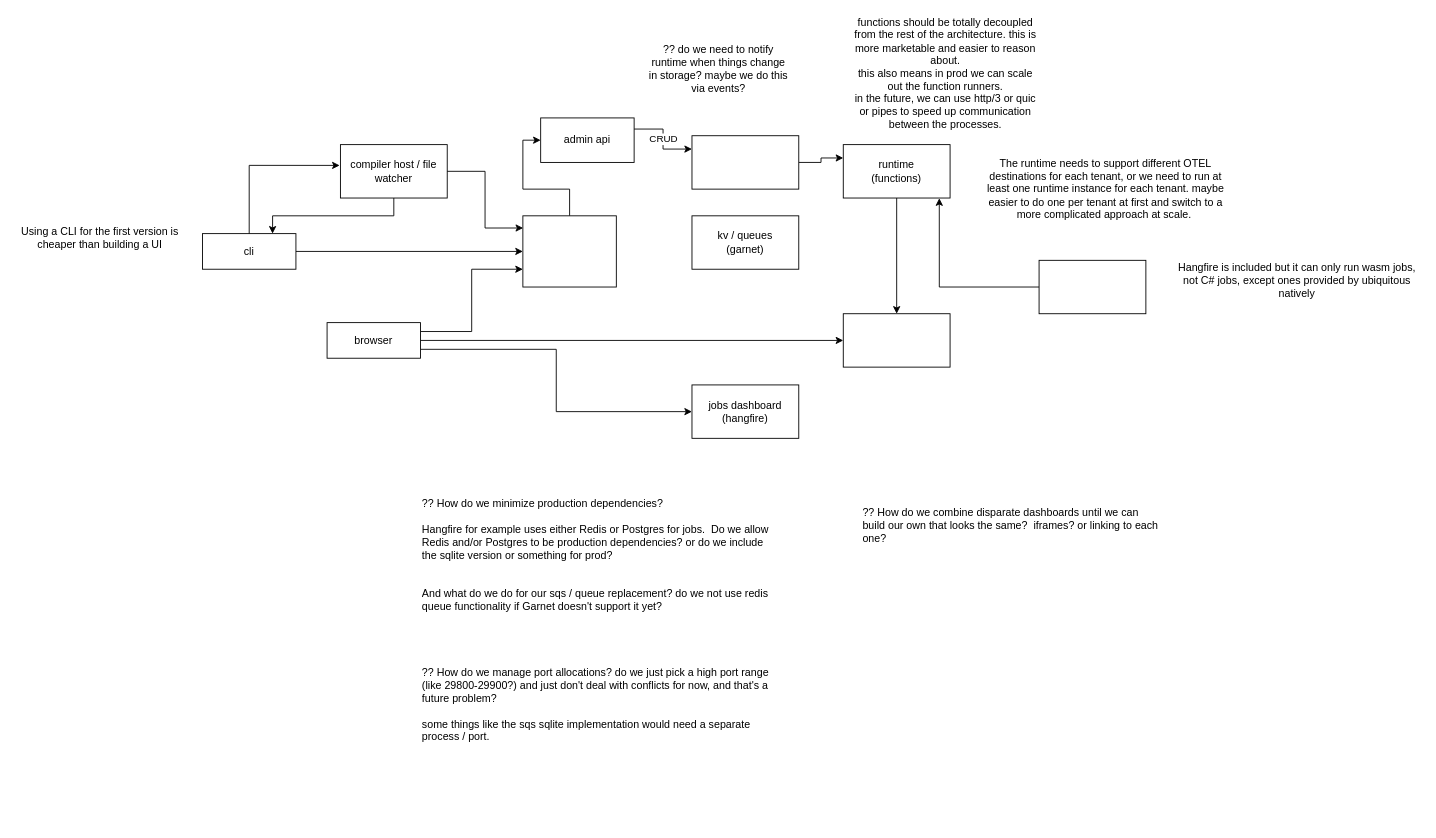
This 1436x838 diagram has some shape labels left out. The shapes that lost their labels are listed below. From the top down, each one's box as (x1, y1, x2, y2) in pixels, then its label:
(691, 135, 799, 189): storage (EF to SQLite locally)
(522, 215, 616, 287): gateway (asp.net core app and yarp, subprocess host)
(1038, 259, 1146, 314): jobs runner (hangfire)
(842, 313, 950, 367): telemetry (aspire local)
